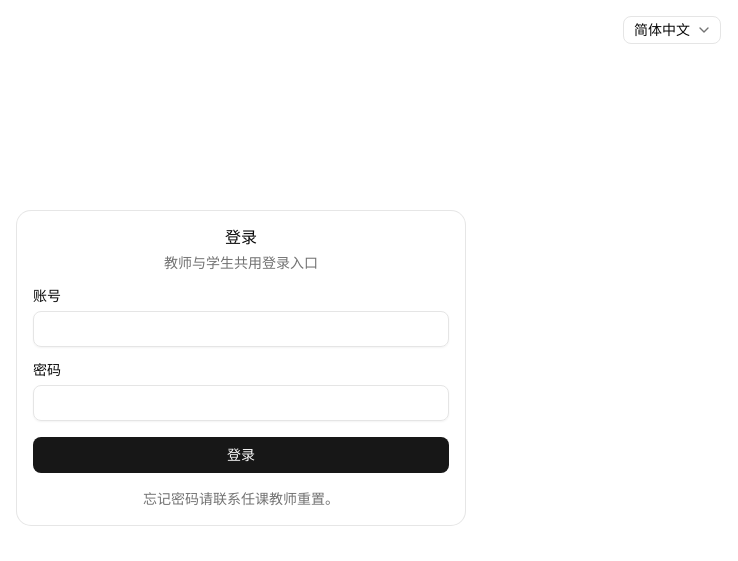
Test: Login › shows 401 message inline and stays on /login
This screenshot has width=738, height=561.
Type "teacher01" into the field labelled "账号" at (241, 329), box [33, 311, 449, 347]
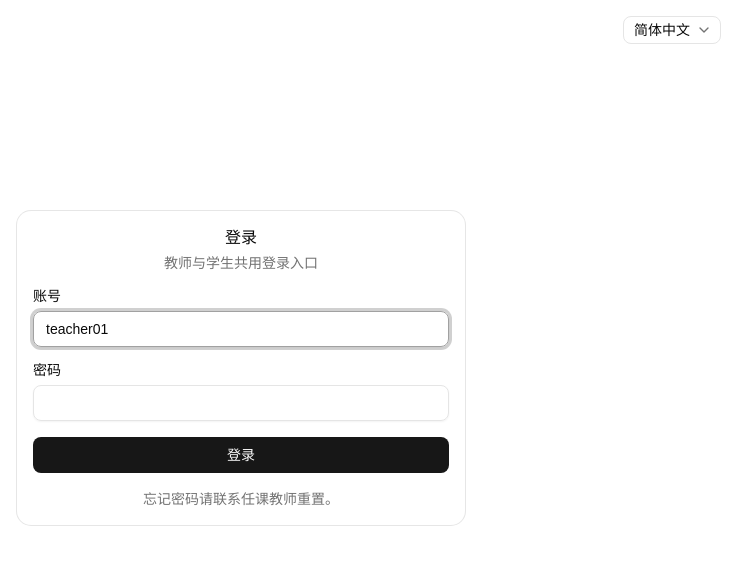
Type "wrong" into the password field labelled "密码" at (241, 403), box [33, 385, 449, 421]
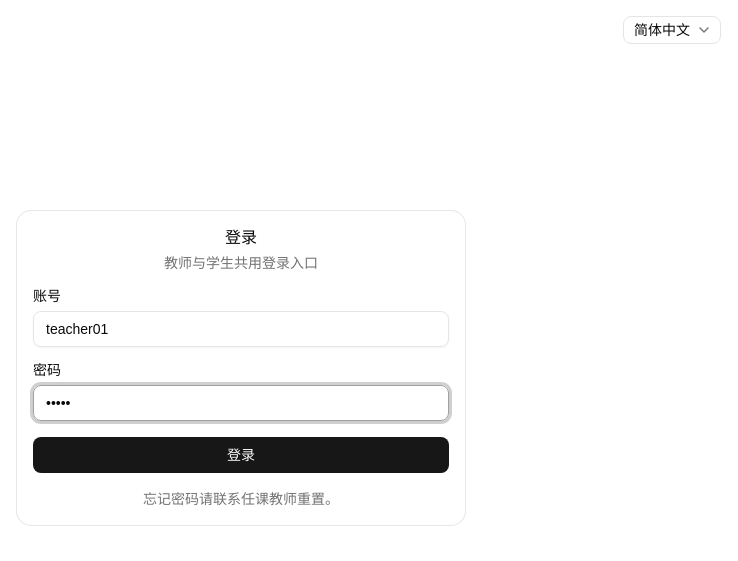
Click the button "登录" at (241, 455), box [33, 437, 449, 473]
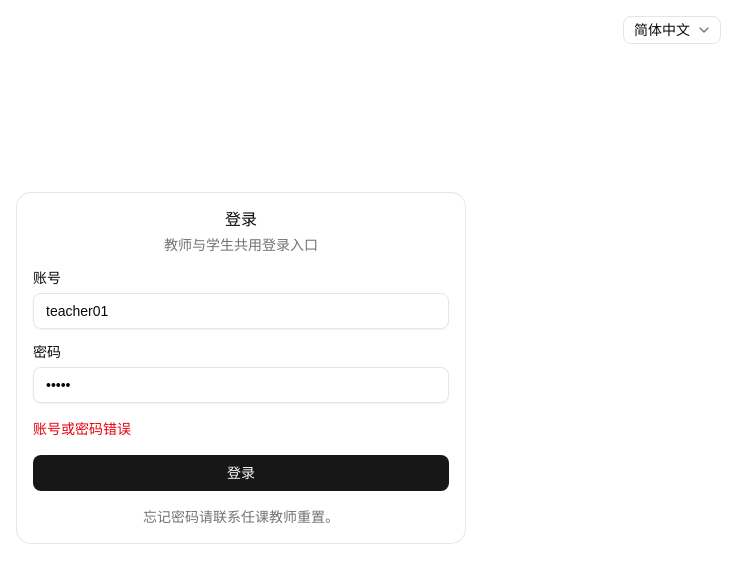
Expected: the text "教师与学生共用登录入口" is shown, [164, 237, 318, 253]
Result: the message reads "账号或密码错误" at [33, 421, 131, 437]
